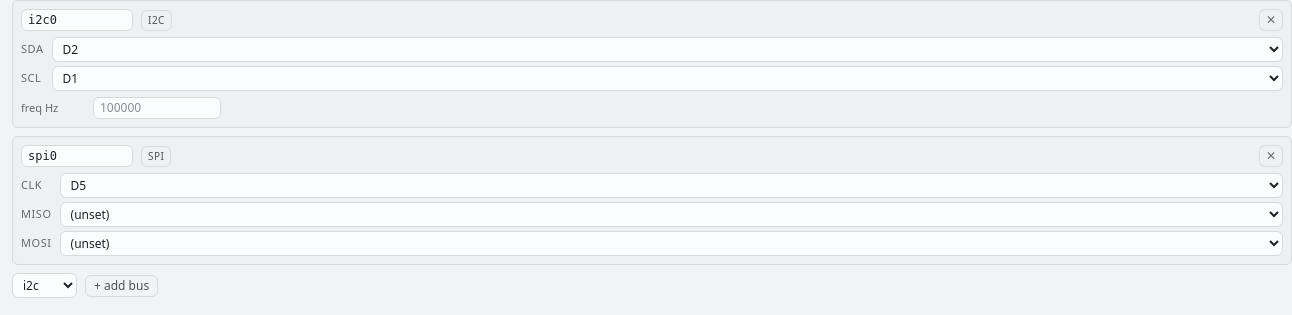
Test case: BusList rename draft › rejects a collision with another bus's id
Click the field showing "i2c0" next to "i2c".
click(77, 20)  # box [21,9,133,31]
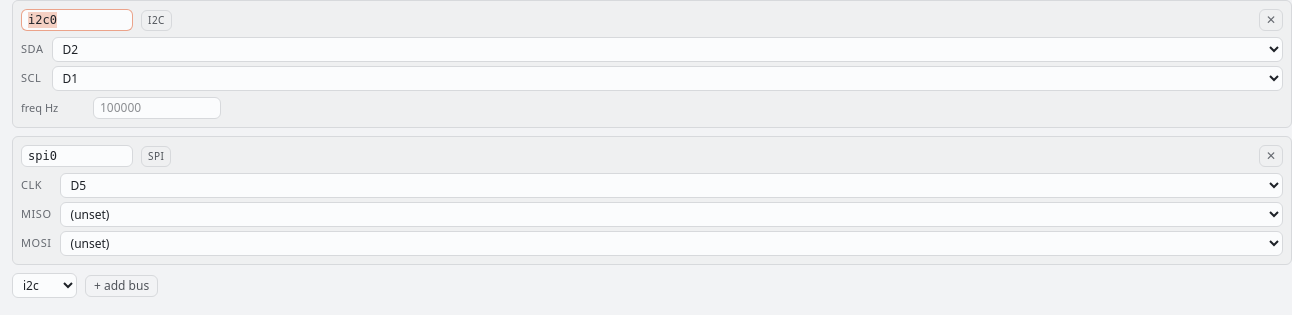
Type keys "spi0"
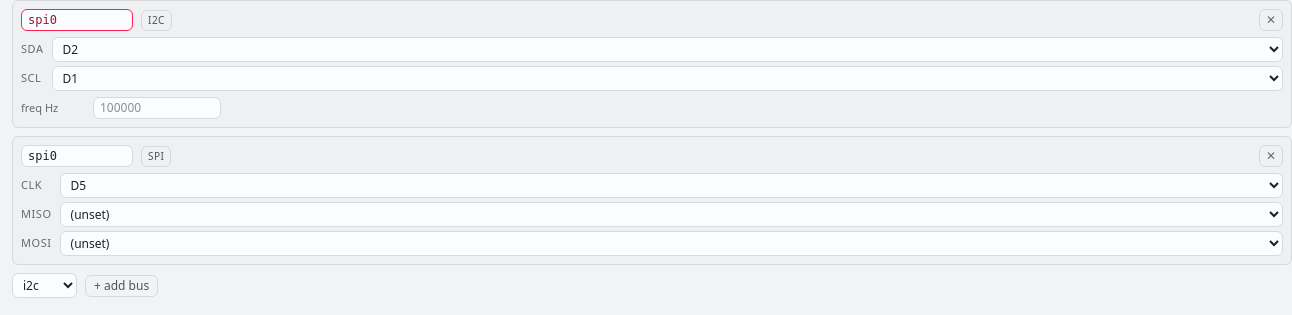
# Trigger commit by tabbing away to blur.
Press Tab
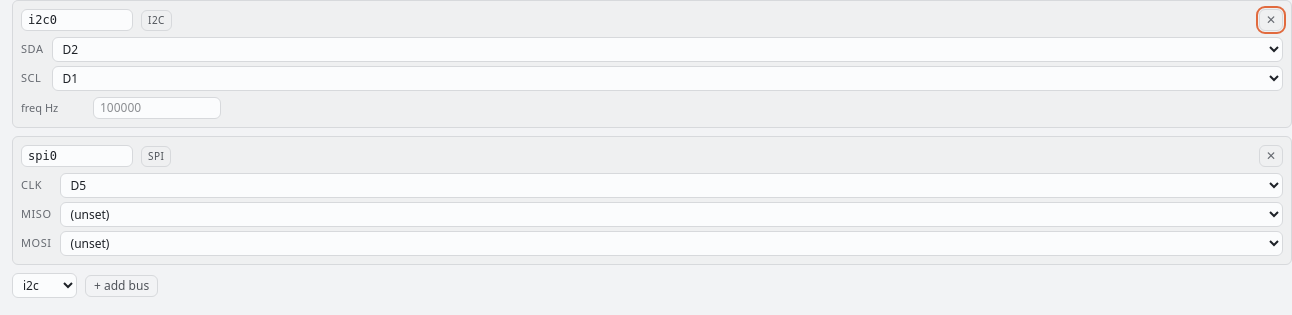
Now the field showing "i2c0" next to "i2c" holds "i2c0", box [21,9,133,31]
